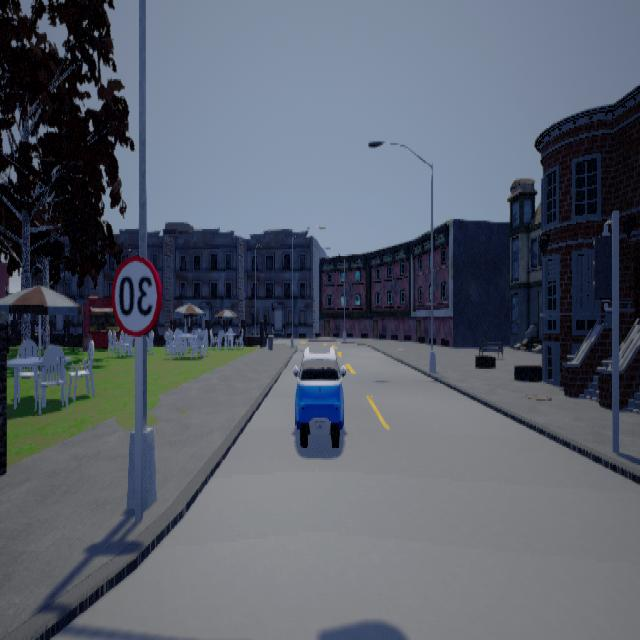traffic_sign: (113, 254, 164, 335)
vehicle: (295, 337, 347, 446)
